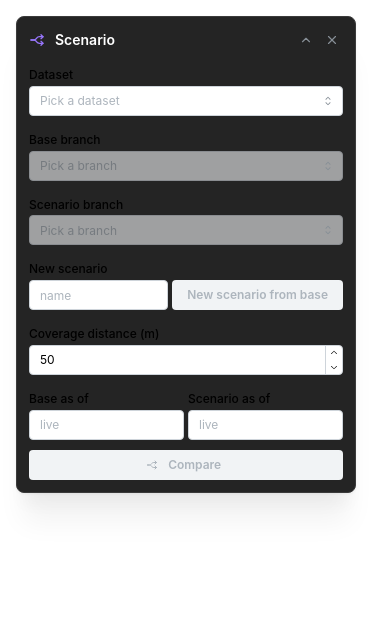
Test: the scenario panel › draws a branch per pane and shows the coverage of each
Click the field with test id "scenario-dataset".
click(186, 101)  # box x1=29 y1=86 x2=343 y2=116
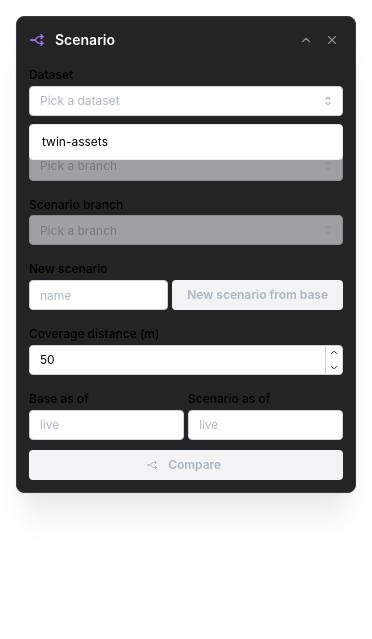
Click the option "twin-assets".
click(75, 141)  # box x1=42 y1=134 x2=108 y2=149
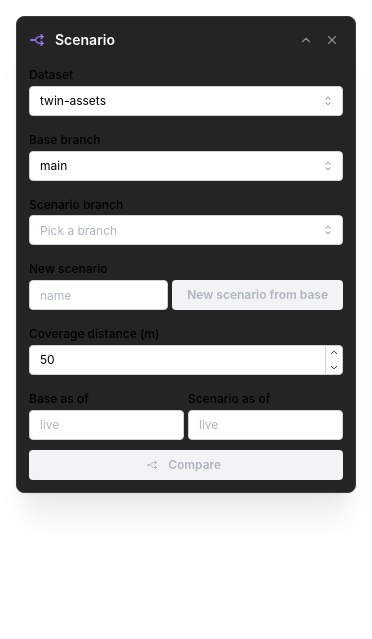
Expected: the field with test id "scenario-branch" is enabled
Click the field with test id "scenario-branch".
click(186, 230)  # box x1=29 y1=215 x2=343 y2=245
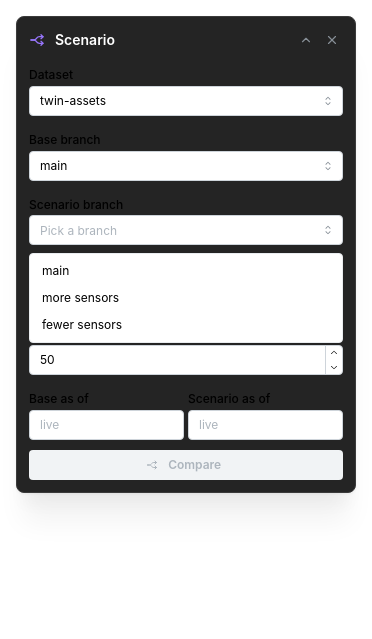
Click the option "more sensors".
click(81, 298)  # box x1=42 y1=290 x2=119 y2=305
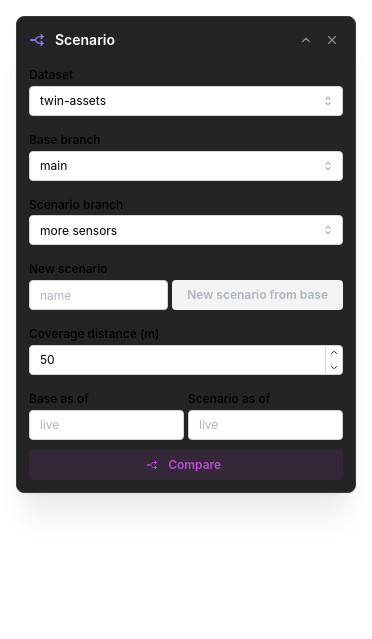
Replace the text in the field with test id "scenario-distance" with "100" at (186, 360), box x1=29 y1=345 x2=343 y2=375
Click the button with test id "scenario-compare".
click(186, 465)  # box x1=29 y1=450 x2=343 y2=480
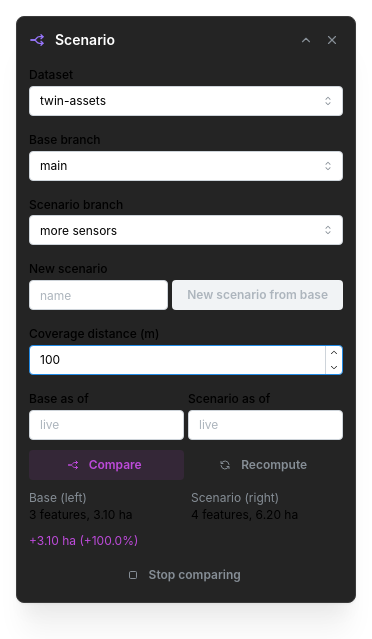
Expected: the text with test id "scenario-base-coverage" reads "3 features, 3.10 ha", x1=29 y1=507 x2=132 y2=522
Expected: the text with test id "scenario-branch-coverage" reads "4 features, 6.20 ha", x1=191 y1=507 x2=298 y2=522
Expected: the text with test id "scenario-difference" reads "+3.10 ha (+100.0%)", x1=29 y1=533 x2=138 y2=548
Click the button with test id "scenario-stop".
click(186, 575)  # box x1=29 y1=560 x2=343 y2=590
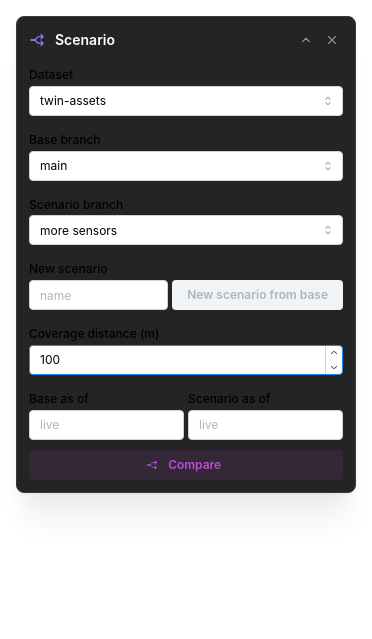
Expected: the text with test id "scenario-base-coverage" is gone
